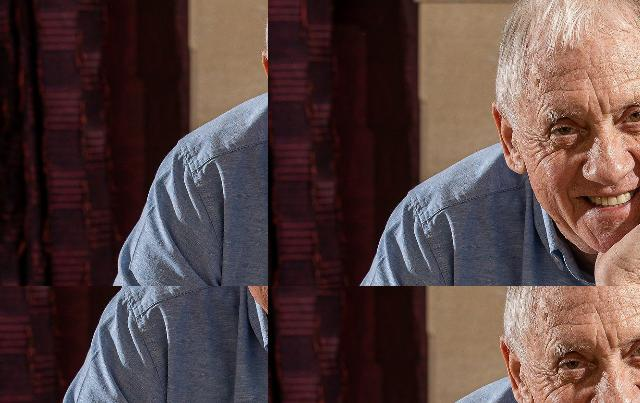chin: (364, 157, 388, 167)
crows_feet: (541, 366, 563, 387)
forehead: (359, 35, 417, 51), (548, 318, 580, 330), (592, 305, 608, 325), (328, 44, 354, 56), (564, 300, 586, 314), (626, 301, 640, 320)
frown_line: (603, 330, 617, 354)
gummy_smile: (132, 332, 164, 374), (42, 331, 66, 383), (394, 108, 410, 124), (338, 116, 352, 132)
masseter: (190, 294, 220, 348), (187, 368, 203, 403)
